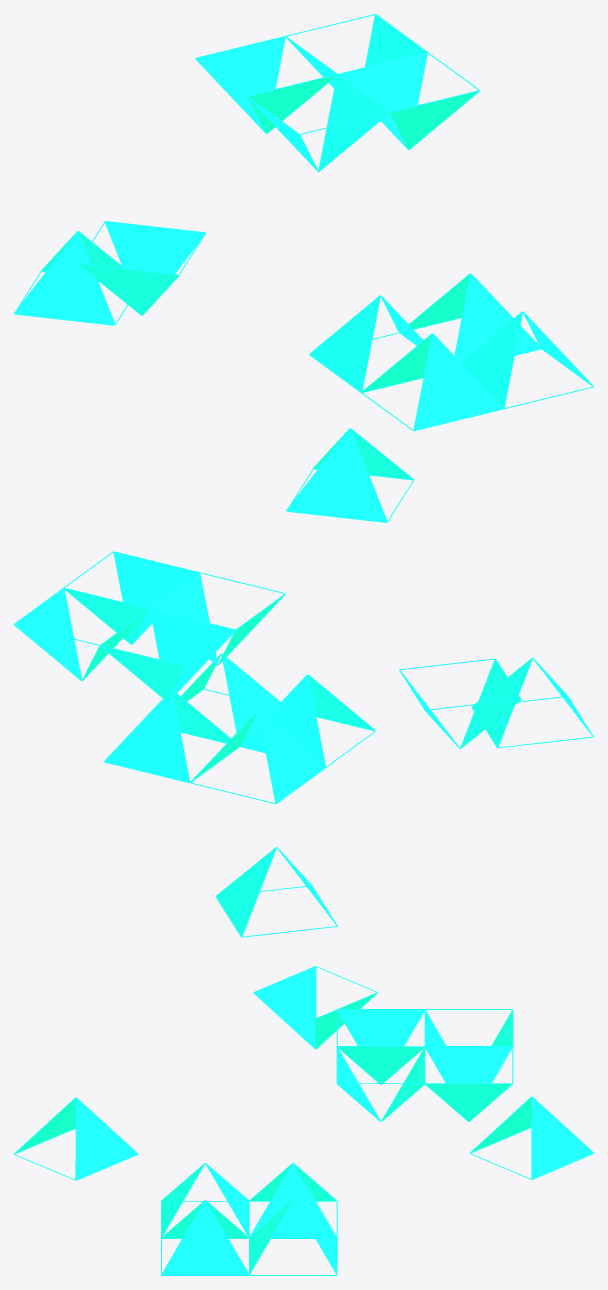
The model's file is AAIS3js.glb.
3 renders of one model, top to bottom at view 1: azimuth 30°, elevation 25°; view 2: azimuth 150°, elevation 25°; view 3: azimuth 270°, elevation 25°, orthographic. The views are drawn at different scales.
Visible parts, largest first — view 1: 物件_5; view 2: 物件_5; view 3: 物件_5.
Part boxes in pixels (x1,y1,x2,y2): 物件_5: (14, 14, 593, 522); 物件_5: (14, 551, 593, 937); 物件_5: (14, 966, 593, 1275).
Size of the model in its own units: 8.33 by 4.19 by 11.69.
